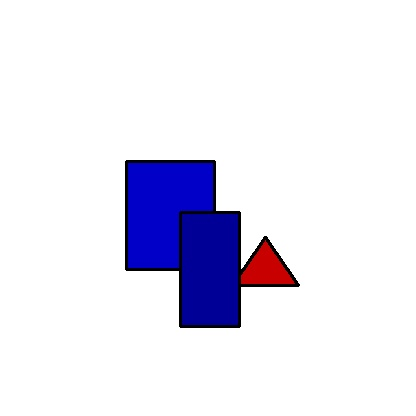rectangle: (126, 161, 214, 269), (180, 212, 239, 326)
triangle: (232, 237, 298, 285)
